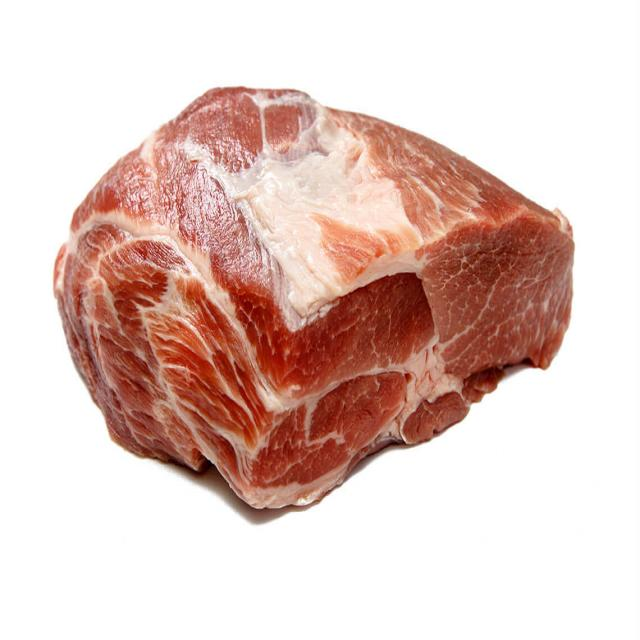pork: (53, 86, 575, 508)
